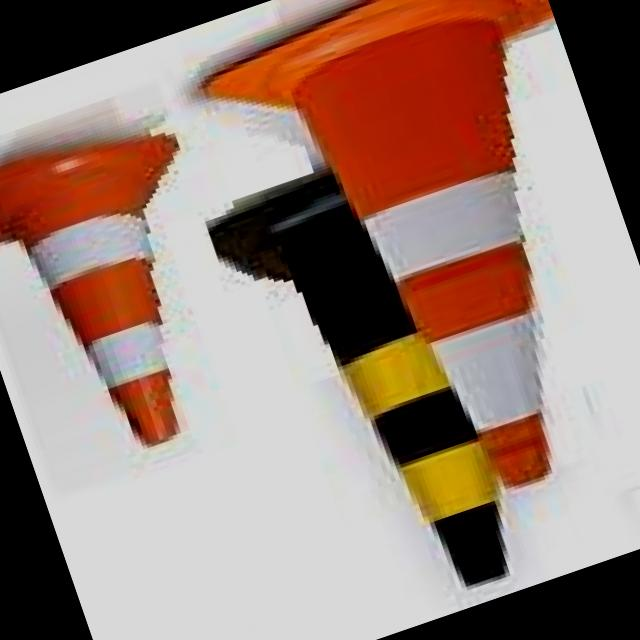cone: (196, 0, 640, 550), (198, 138, 528, 626), (0, 104, 270, 479)
